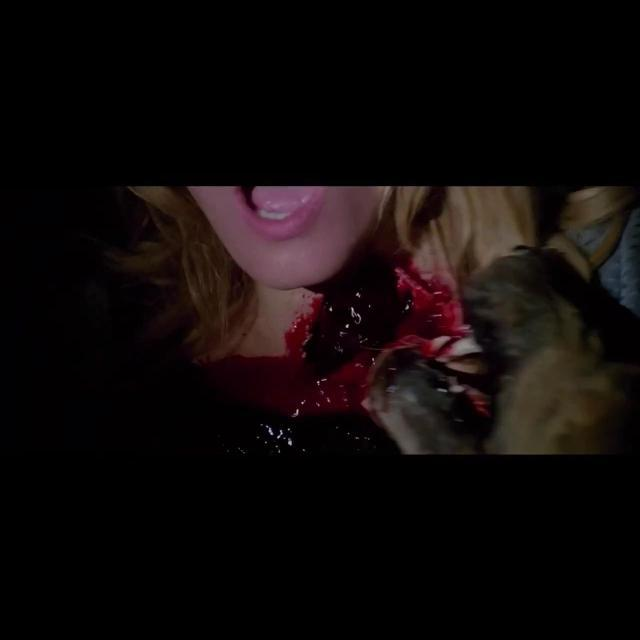blood: (205, 250, 492, 454)
